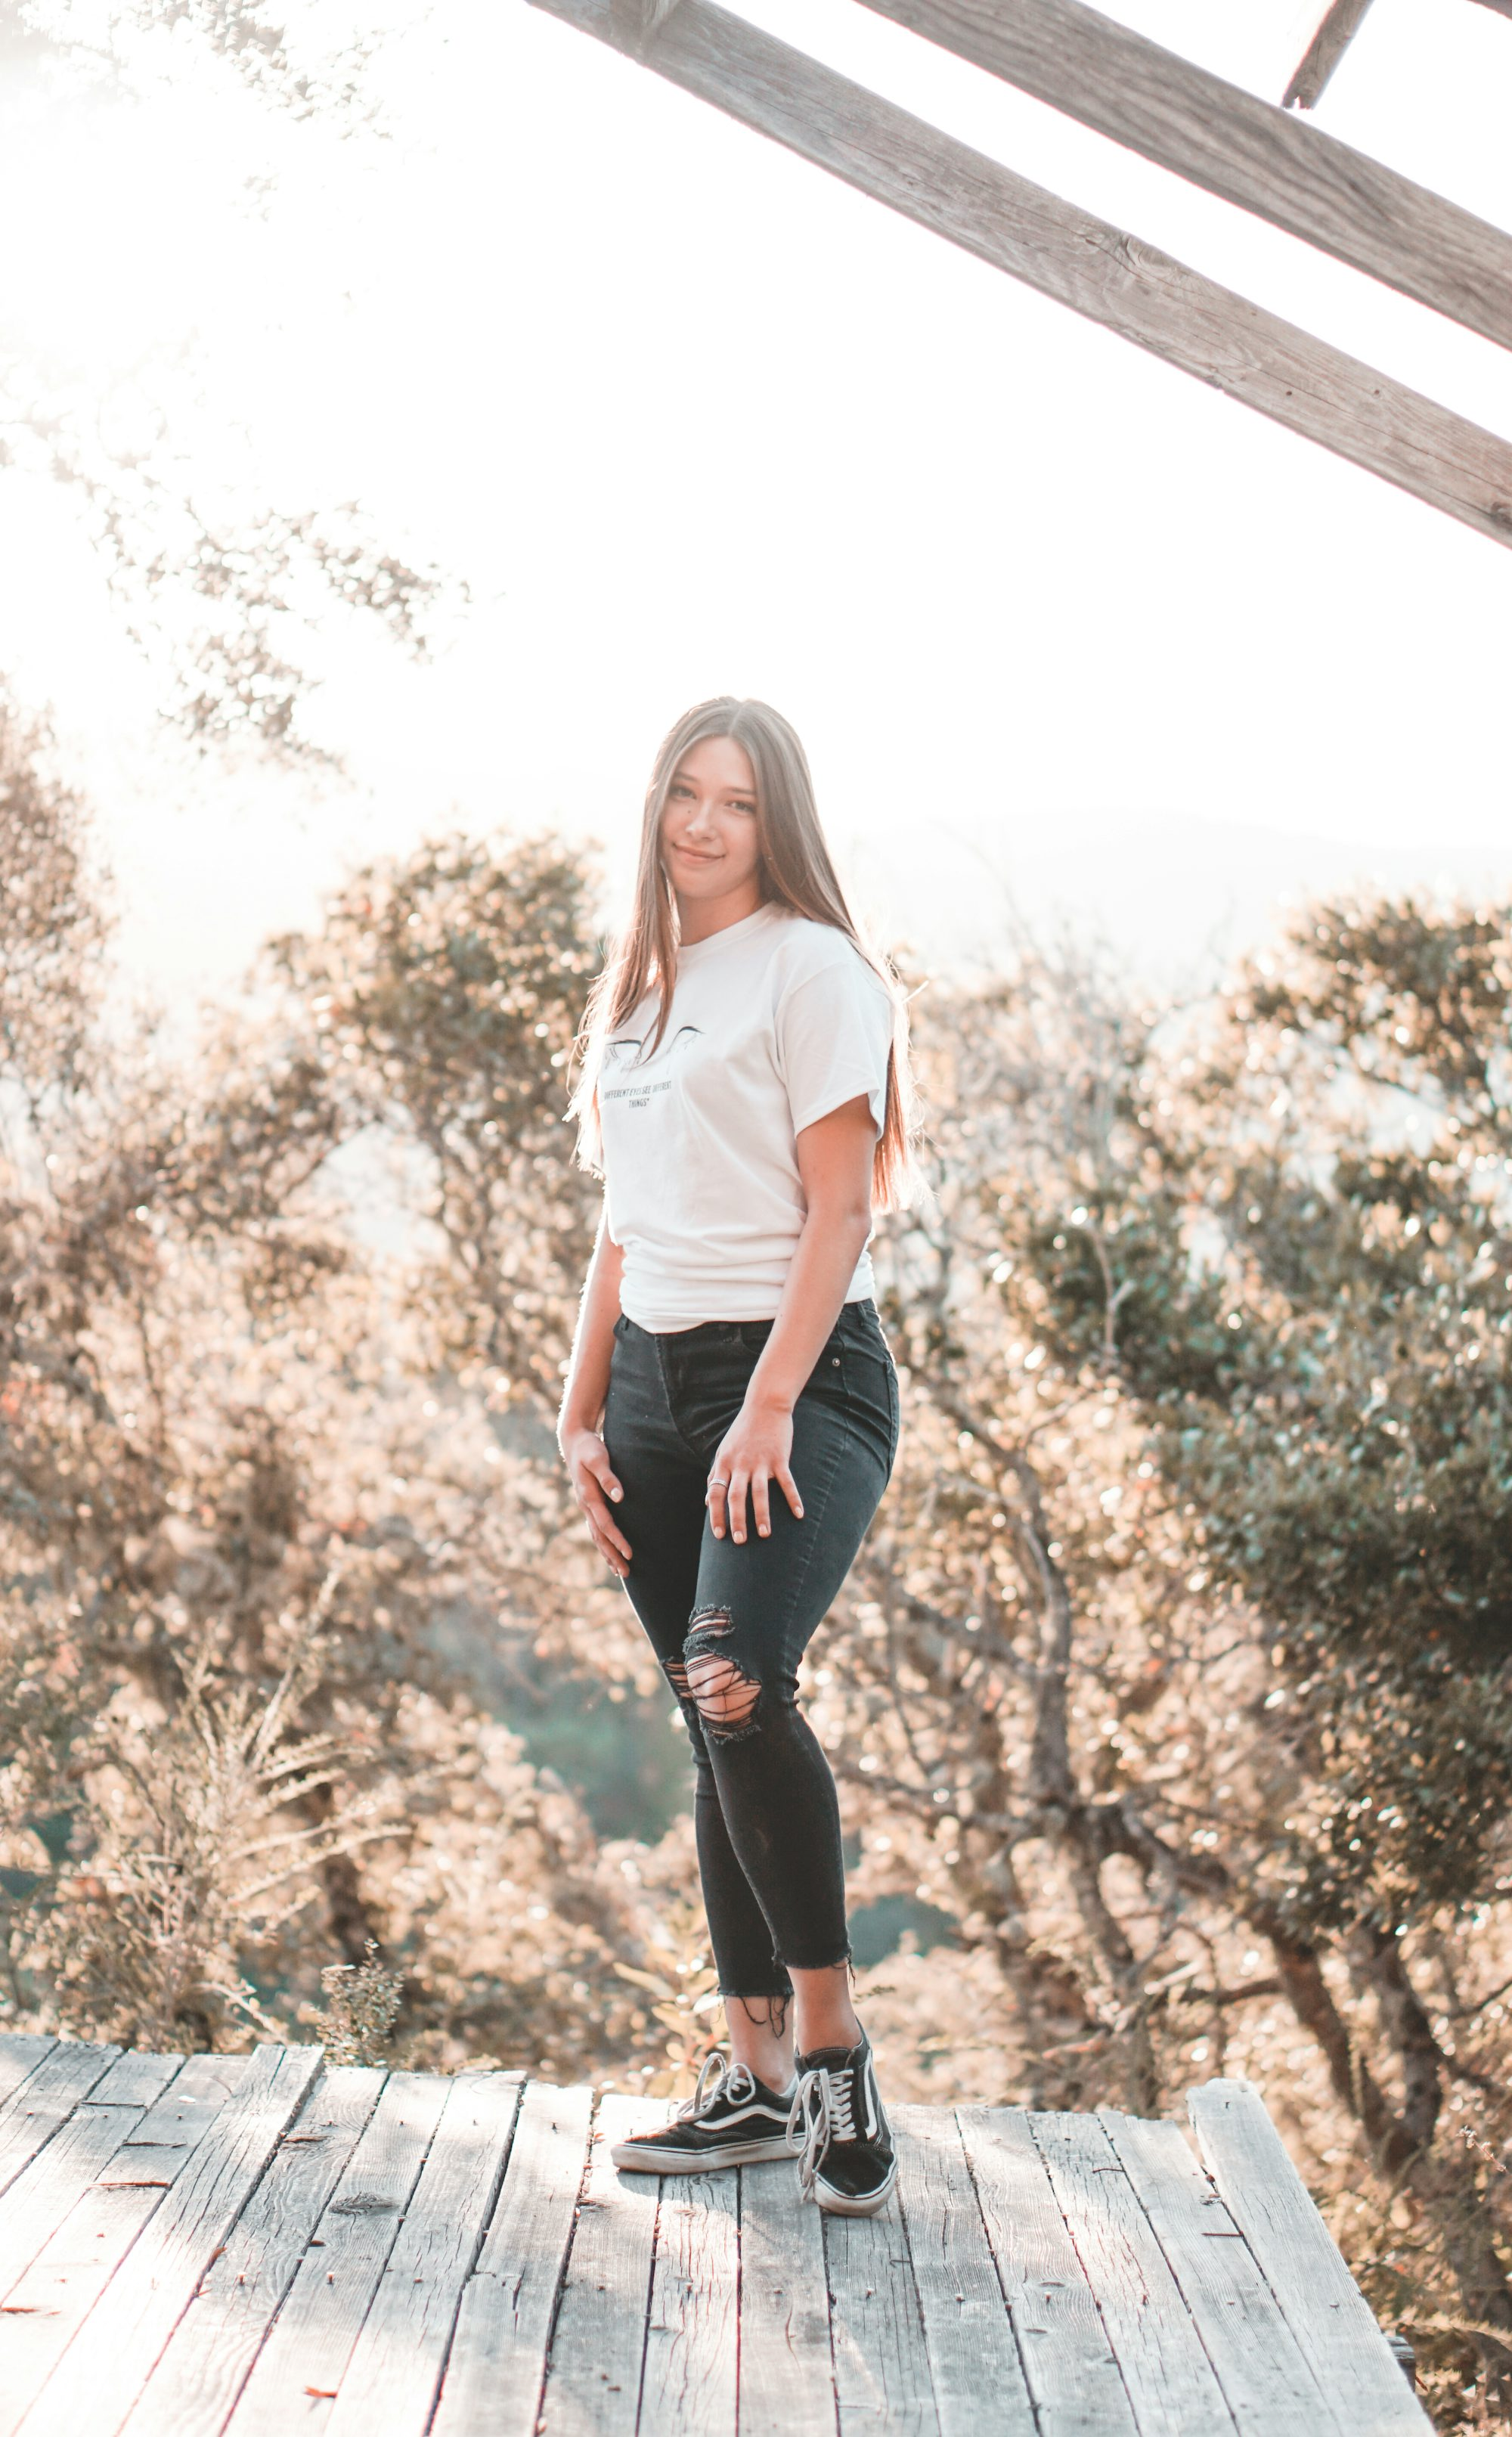person: (423, 675, 1083, 2274)
